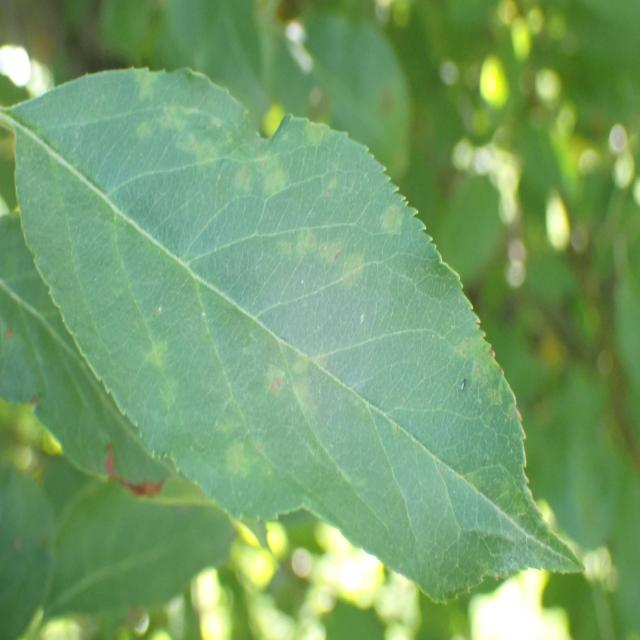scab: (52, 53, 505, 518)
